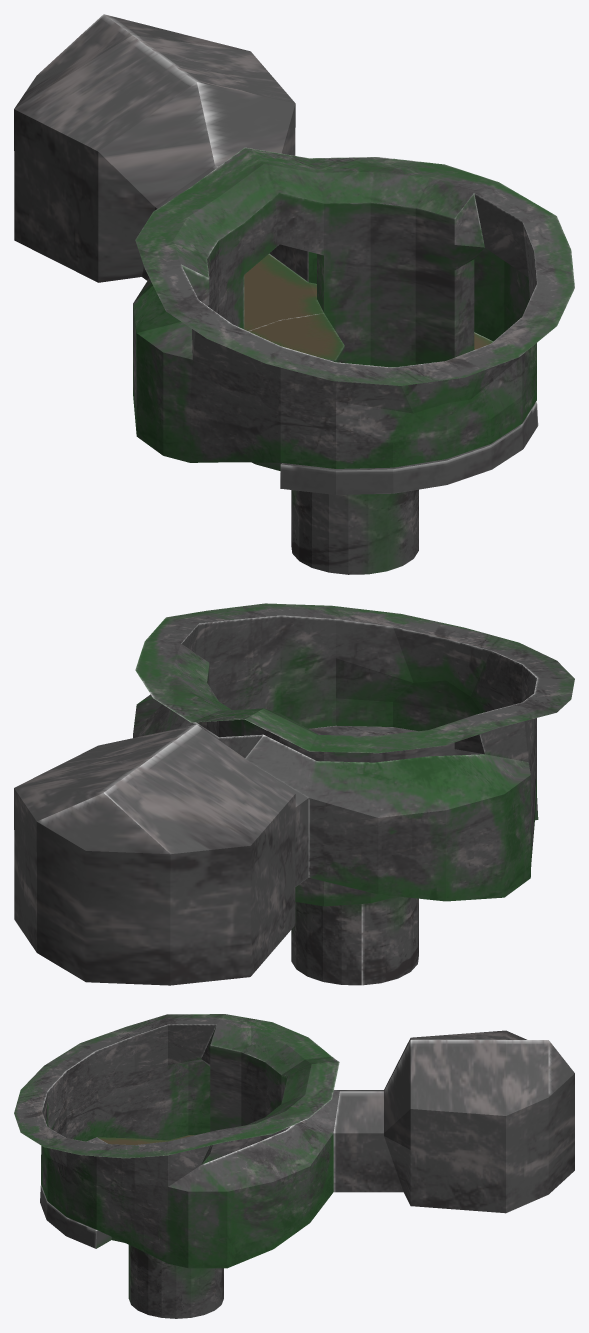
File: Arena Mk 4.1.fbx
The picture shows the model from 3 angles, top to bottom: view 1: azimuth 30°, elevation 25°; view 2: azimuth 150°, elevation 25°; view 3: azimuth 270°, elevation 25°; orthographic projection. The views are drawn at different scales.
Parts seen in each view (by area): view 1: Walls, Tunnel_Wall, Floors; view 2: Walls, Tunnel_Wall, Floors; view 3: Walls, Tunnel_Wall, Floors.
Part boxes in pixels (x1,y1,x2,y2): Walls: [14, 14, 574, 494]; Tunnel_Wall: [291, 489, 418, 574]; Floors: [244, 253, 493, 367]; Walls: [14, 603, 574, 985]; Tunnel_Wall: [291, 896, 418, 985]; Floors: [309, 725, 417, 736]; Walls: [14, 1014, 574, 1268]; Tunnel_Wall: [128, 1245, 223, 1318]; Floors: [87, 1135, 193, 1145].
Bounding box in the file's own units: 126 × 108 × 212.
